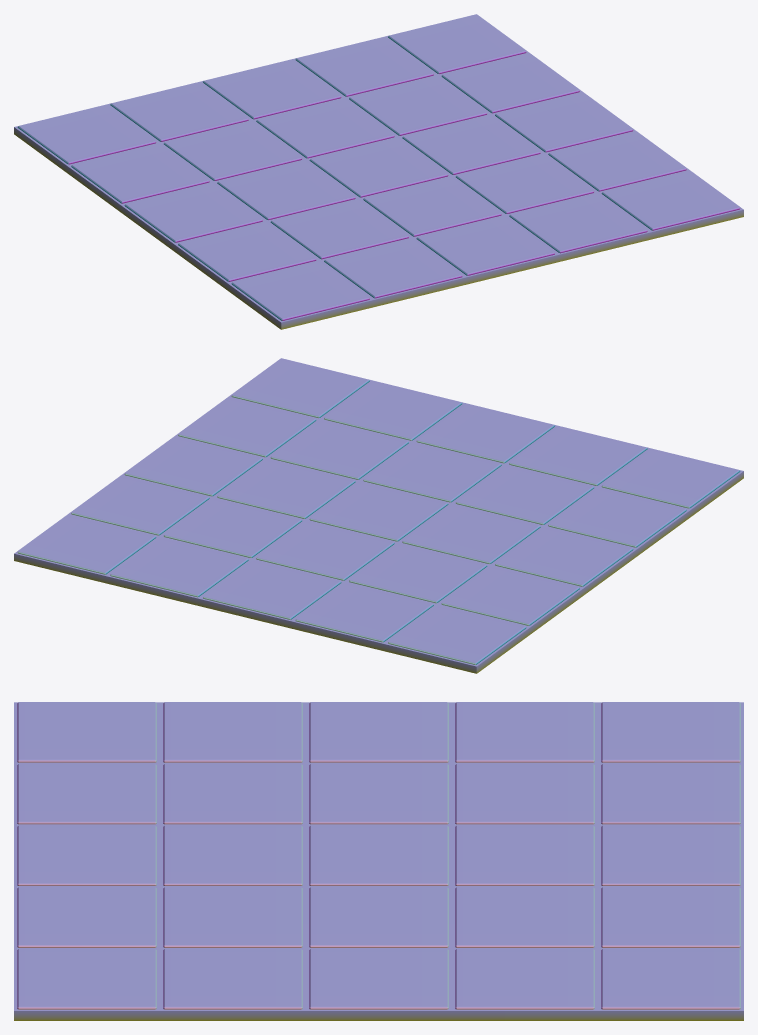
Rendered from env_floor_tile_white.glb.
3 renders of one model, top to bottom at view 1: azimuth 30°, elevation 25°; view 2: azimuth 150°, elevation 25°; view 3: azimuth 270°, elevation 25°, orthographic. The views are drawn at different scales.
Parts seen in each view (by area): view 1: env_floor_tile_white_mesh; view 2: env_floor_tile_white_mesh; view 3: env_floor_tile_white_mesh.
Part boxes in pixels (x1,y1,x2,y2): env_floor_tile_white_mesh: (14, 14, 743, 329); env_floor_tile_white_mesh: (14, 358, 743, 673); env_floor_tile_white_mesh: (14, 702, 743, 1020).
Bounding box in the file's own units: 2 × 0.037 × 2.
